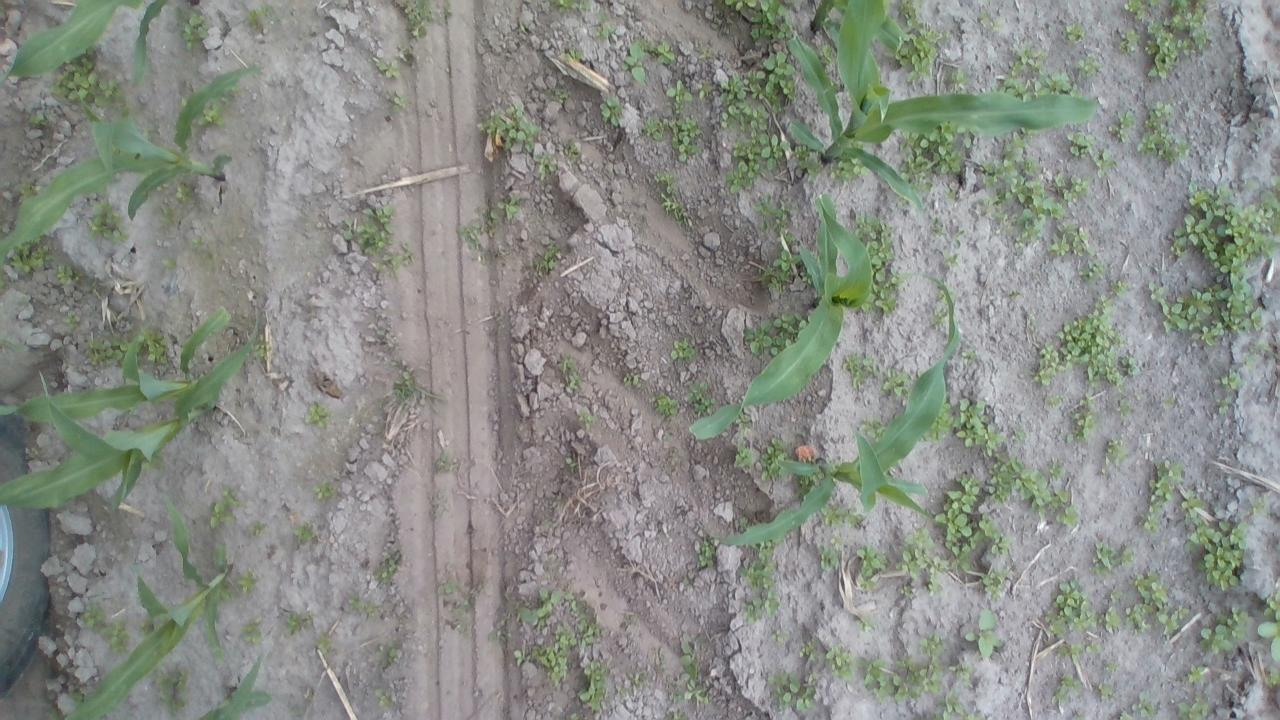Maize: (716, 274, 958, 543), (786, 1, 1098, 205), (0, 304, 261, 518), (3, 64, 262, 262), (690, 190, 876, 438), (66, 503, 238, 720), (4, 0, 141, 69), (811, 0, 905, 51), (200, 654, 268, 720), (132, 0, 170, 82)
Weeds: (936, 454, 1078, 556), (972, 136, 1090, 239), (1167, 180, 1280, 278), (1180, 492, 1266, 592), (713, 71, 778, 196), (1148, 280, 1274, 343), (1032, 294, 1120, 384), (722, 0, 796, 94), (861, 632, 950, 696), (1144, 0, 1210, 82), (856, 211, 905, 312), (49, 60, 124, 122), (891, 524, 954, 596), (1125, 569, 1190, 634), (899, 128, 974, 184), (998, 46, 1070, 97), (739, 542, 781, 624), (518, 624, 575, 684), (666, 79, 704, 164), (950, 397, 1002, 456), (1196, 602, 1248, 658), (340, 204, 396, 255), (474, 102, 536, 148), (1144, 456, 1180, 534), (1045, 577, 1095, 632), (900, 24, 941, 88), (668, 651, 706, 720), (962, 606, 1008, 662), (1141, 102, 1189, 155), (148, 658, 190, 712), (750, 252, 800, 297), (741, 314, 800, 351), (392, 0, 446, 40), (650, 171, 688, 225), (453, 212, 497, 258), (576, 661, 612, 717), (205, 486, 245, 532), (772, 671, 815, 713), (1064, 394, 1098, 444), (1261, 576, 1280, 664), (567, 594, 603, 640), (1093, 538, 1133, 576), (528, 236, 566, 274), (858, 540, 888, 588), (86, 207, 126, 243), (1049, 230, 1091, 262), (1100, 582, 1124, 638), (521, 585, 557, 622), (338, 594, 386, 621), (979, 565, 1018, 598), (690, 524, 720, 566), (290, 524, 328, 556), (840, 351, 871, 390), (495, 187, 528, 222), (372, 550, 404, 586), (750, 198, 786, 230), (80, 338, 120, 366), (826, 642, 857, 678), (552, 355, 582, 391), (138, 325, 168, 360), (596, 93, 625, 129), (622, 42, 648, 82), (789, 144, 821, 176), (756, 440, 784, 476), (11, 251, 51, 276), (280, 608, 311, 640), (1049, 640, 1104, 658), (1106, 111, 1134, 146), (444, 598, 471, 634), (880, 364, 910, 395), (302, 399, 328, 434), (392, 366, 420, 398), (180, 10, 208, 42), (529, 146, 557, 178), (838, 503, 868, 532), (1088, 146, 1117, 176), (383, 239, 413, 267), (105, 620, 132, 651), (1052, 672, 1078, 704), (75, 604, 104, 632), (937, 691, 966, 718), (200, 103, 227, 132), (1172, 700, 1211, 720), (655, 391, 679, 422), (1064, 126, 1090, 154), (239, 619, 266, 645), (1104, 437, 1126, 468), (1114, 26, 1138, 54), (243, 7, 276, 27), (377, 644, 399, 674), (685, 386, 710, 412), (153, 203, 180, 227), (1120, 1, 1158, 18), (374, 55, 400, 78), (932, 412, 954, 439), (733, 437, 749, 474), (669, 340, 697, 361), (640, 115, 664, 139), (832, 160, 864, 178), (856, 418, 884, 438), (949, 660, 977, 680), (436, 569, 459, 593), (52, 265, 76, 287), (1188, 664, 1212, 686), (1075, 54, 1099, 76), (235, 566, 256, 591), (794, 637, 816, 660), (1064, 21, 1085, 45), (976, 15, 1004, 33), (1218, 369, 1240, 391), (554, 0, 593, 12), (1120, 354, 1142, 375), (658, 40, 678, 63), (898, 0, 918, 23), (1130, 698, 1157, 715), (1079, 261, 1101, 281), (312, 479, 332, 501), (563, 142, 583, 164), (624, 670, 642, 694), (384, 90, 404, 110), (816, 552, 836, 572), (316, 634, 336, 654), (578, 414, 600, 432), (17, 181, 38, 199), (1043, 391, 1065, 408), (949, 72, 968, 91), (376, 686, 394, 706), (951, 226, 966, 250), (588, 18, 608, 36), (434, 448, 451, 468), (174, 182, 196, 197), (28, 109, 46, 127), (1158, 392, 1176, 410), (569, 41, 586, 60), (1218, 397, 1235, 416), (1098, 655, 1118, 671), (1000, 284, 1026, 296), (1263, 668, 1280, 686), (932, 218, 948, 236), (1113, 396, 1129, 414), (60, 312, 80, 326), (252, 340, 268, 356), (251, 522, 270, 535), (488, 630, 508, 642), (1096, 682, 1111, 696), (622, 377, 636, 392), (162, 257, 178, 270), (1068, 708, 1085, 720), (1109, 278, 1123, 292), (772, 624, 784, 640), (558, 87, 572, 100), (932, 291, 946, 304), (961, 346, 977, 357), (944, 253, 956, 266), (1118, 711, 1134, 720), (933, 310, 946, 321), (565, 458, 578, 468), (192, 234, 206, 243)
